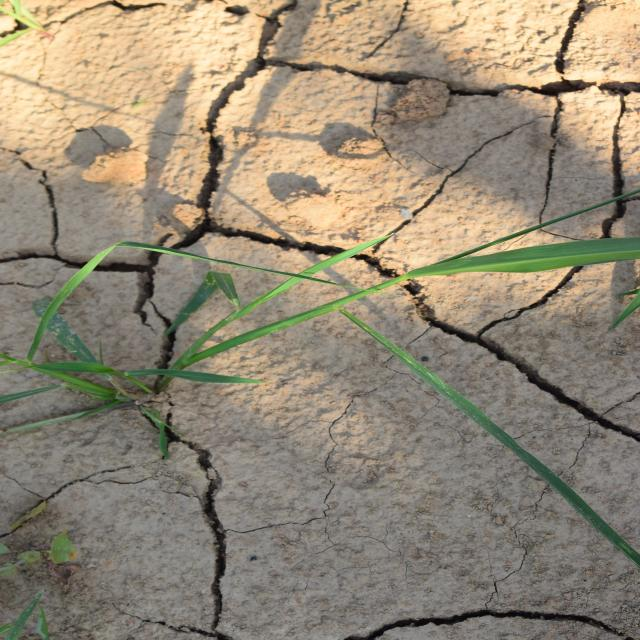green_foxtail: (246, 198, 452, 612)
